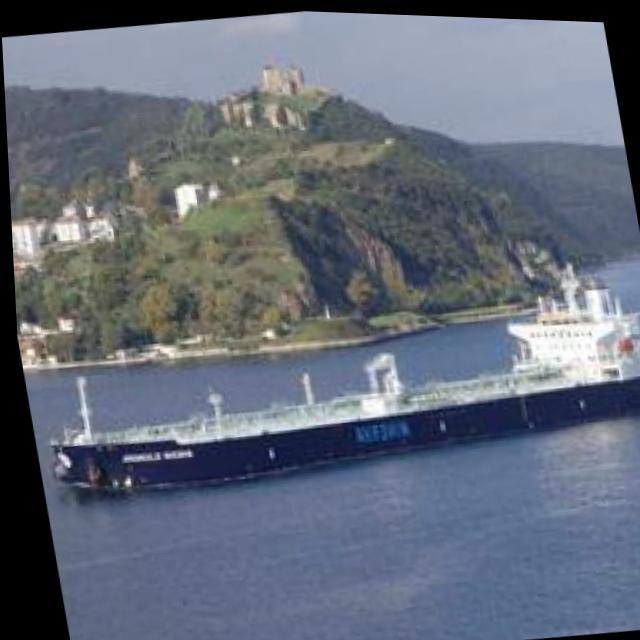ship2: (42, 259, 640, 504)
